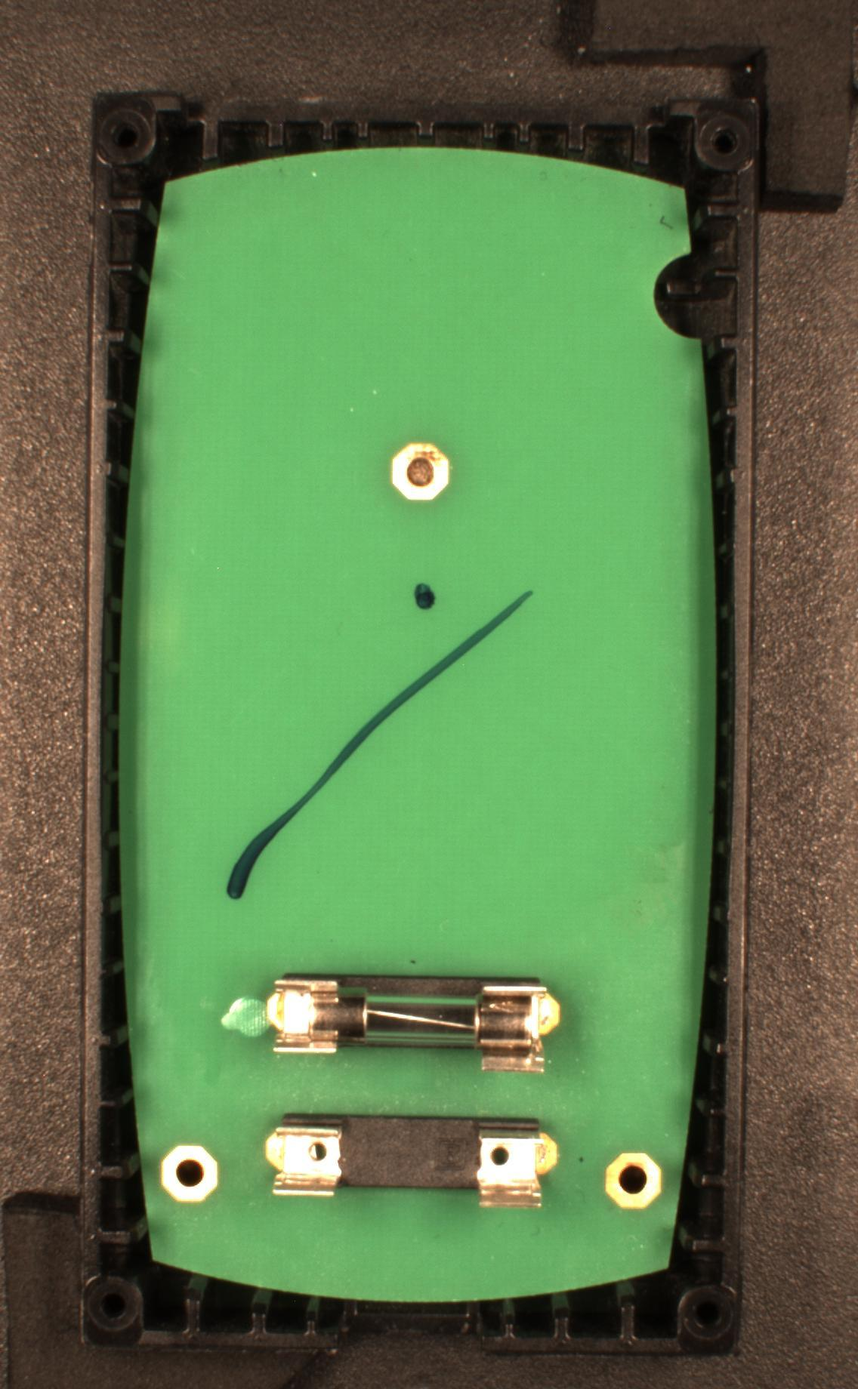Linijsko Ostecene: (224, 588, 535, 900)
Nepostojanje osiguraca: (263, 1111, 558, 1210)
Tockasto Ostecenje: (411, 580, 439, 611)
